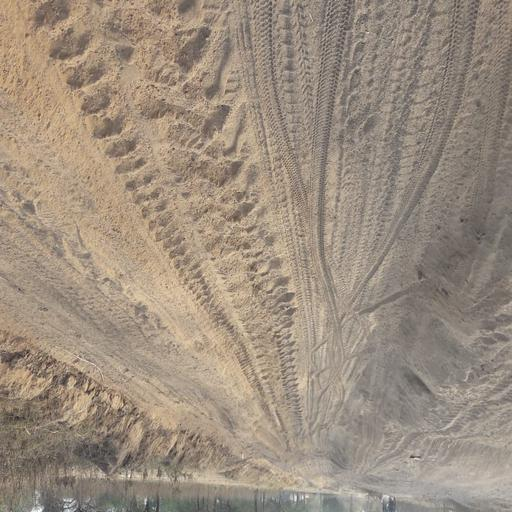vehicle_track: (0, 0, 512, 475)
